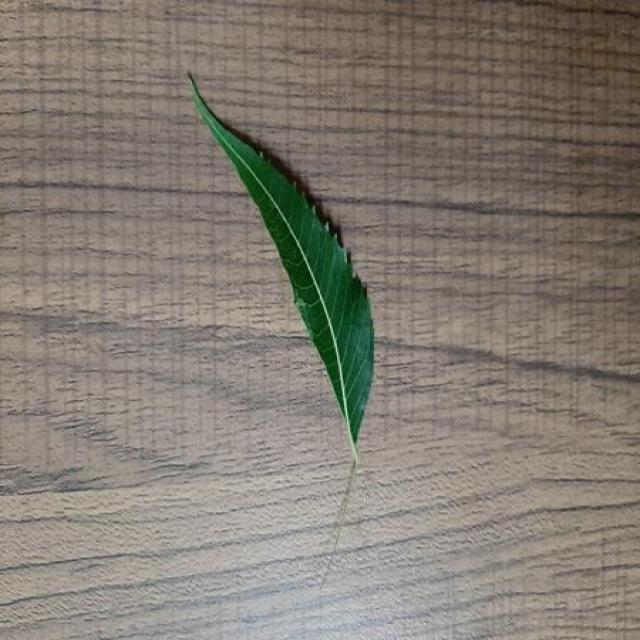neem: (189, 75, 375, 462)
